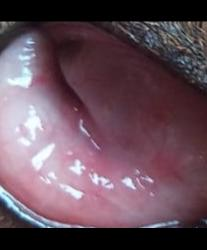eye_membrane: (0, 23, 207, 228)
